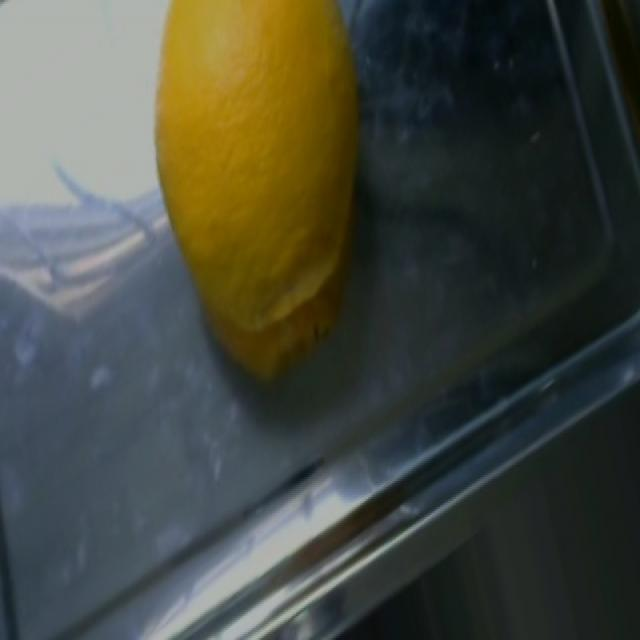Fruit: (133, 0, 383, 260)
